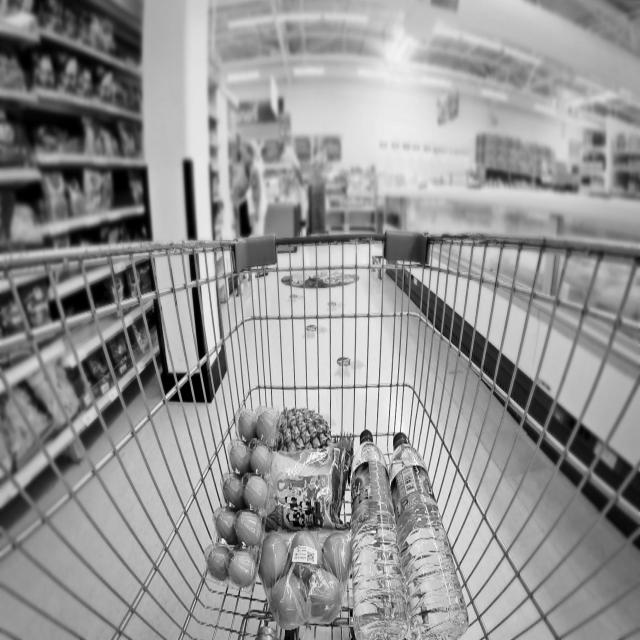apple: (260, 531, 355, 626)
egg: (208, 400, 276, 591)
pineapple: (276, 403, 340, 452)
